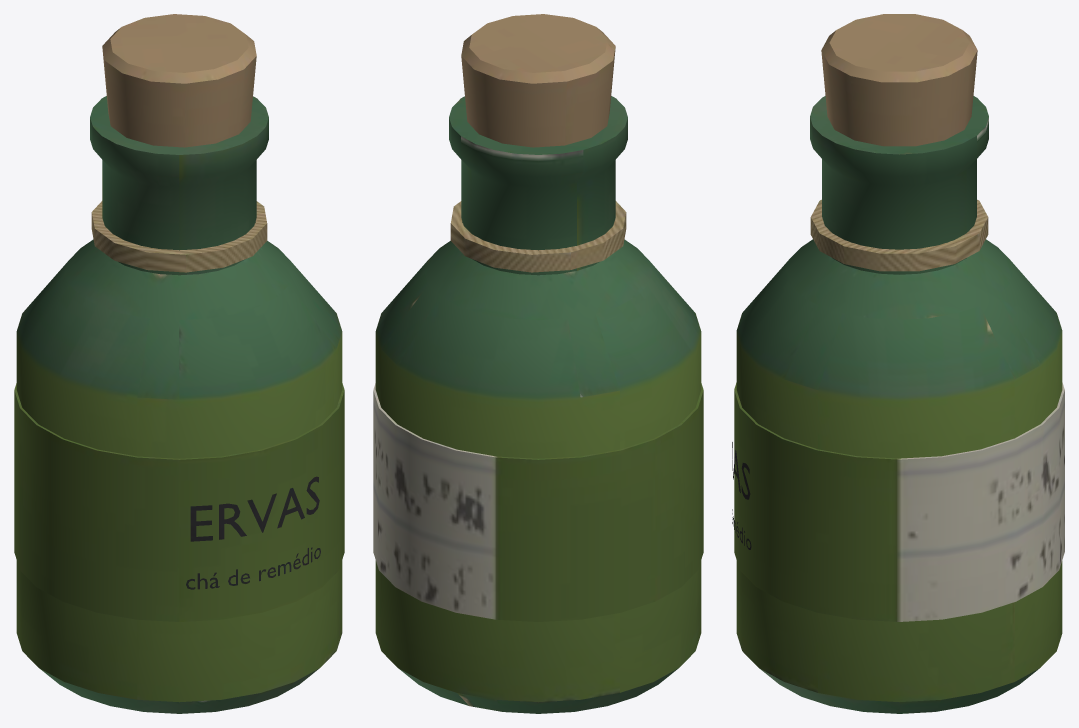
Rendered from remedio_ervas.glb.
3 views of the same model, side by side, from view 1: azimuth 30°, elevation 25°; view 2: azimuth 150°, elevation 25°; view 3: azimuth 270°, elevation 25° (orthographic).
Parts seen in each view (by area): view 1: vidro, rotulo, rolha, letras; view 2: vidro, rotulo, rolha; view 3: vidro, rotulo, rolha.
Part boxes in pixels (x1,y1,x2,y2): vidro: [16, 96, 342, 713]; rotulo: [14, 383, 344, 621]; rolha: [91, 14, 267, 272]; letras: [186, 476, 320, 589]; vidro: [375, 96, 701, 713]; rotulo: [373, 383, 703, 621]; rolha: [450, 14, 626, 272]; vidro: [736, 96, 1062, 713]; rotulo: [734, 382, 1064, 621]; rolha: [810, 14, 988, 271].
Size of the model in its own units: 0.0406 by 0.083 by 0.0408.
Materials: 1 (1 with a texture image).
